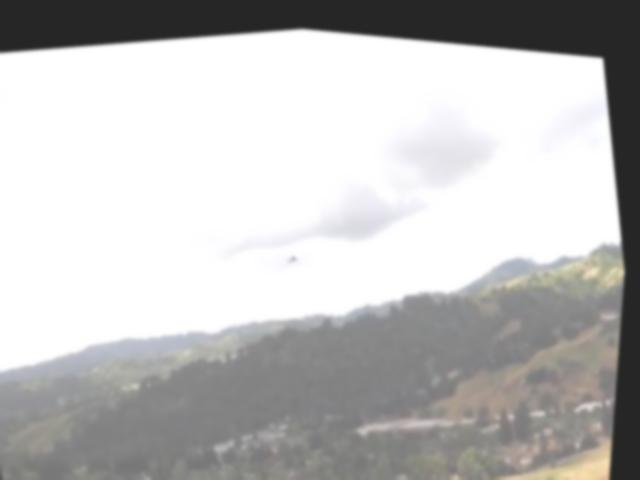iha: (286, 239, 316, 260)
